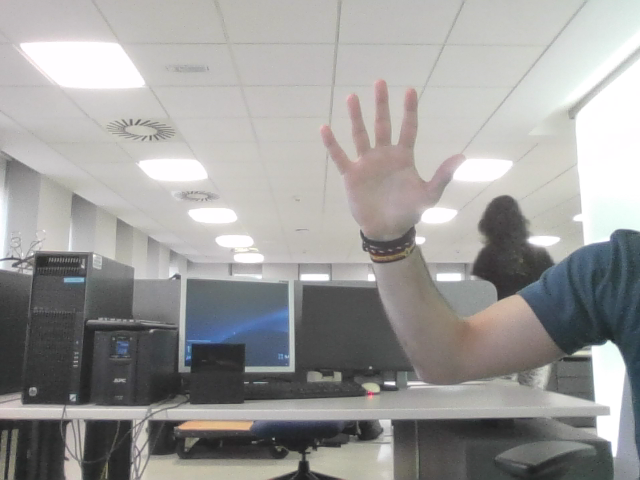Mano Abierta: (329, 92, 450, 208)
